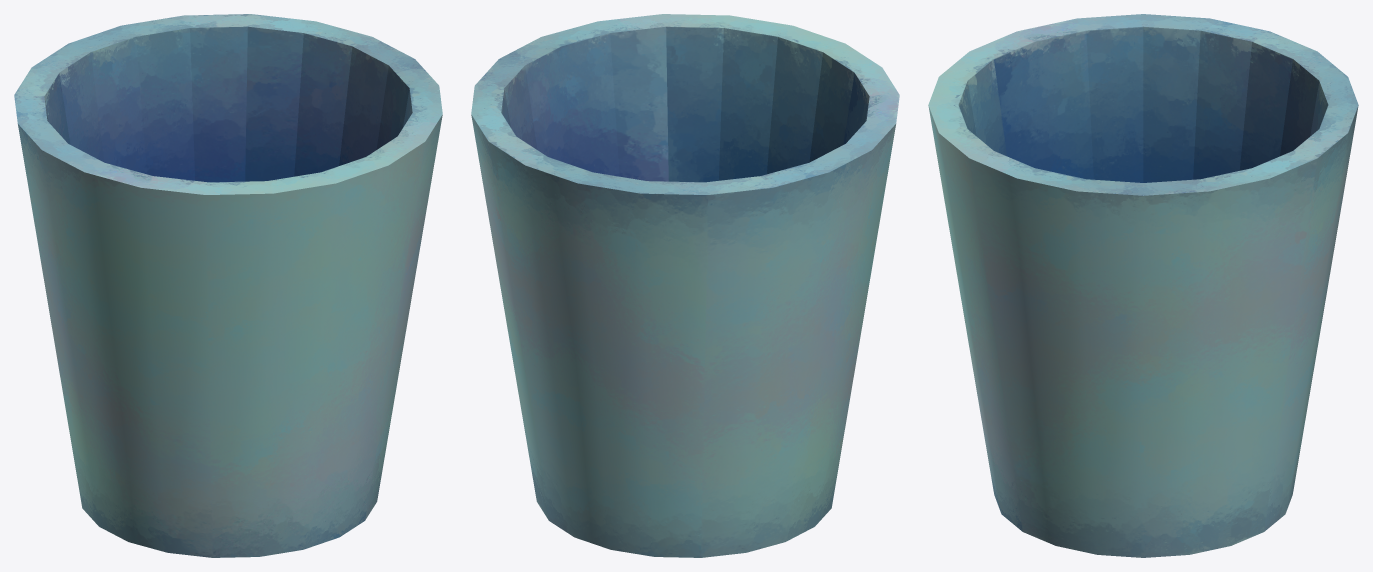
File: 21_Lv1 Cup.fbx
The picture shows the model from 3 angles, left to right: view 1: azimuth 30°, elevation 25°; view 2: azimuth 150°, elevation 25°; view 3: azimuth 270°, elevation 25°; orthographic projection.
Visible parts, largest first — view 1: Cup; view 2: Cup; view 3: Cup.
Boxes of the visible parts, <box> form: Cup: <box>14,14,442,557</box>; Cup: <box>471,14,899,557</box>; Cup: <box>928,14,1358,557</box>.
Size of the model in its own units: 215 by 215 by 215.
